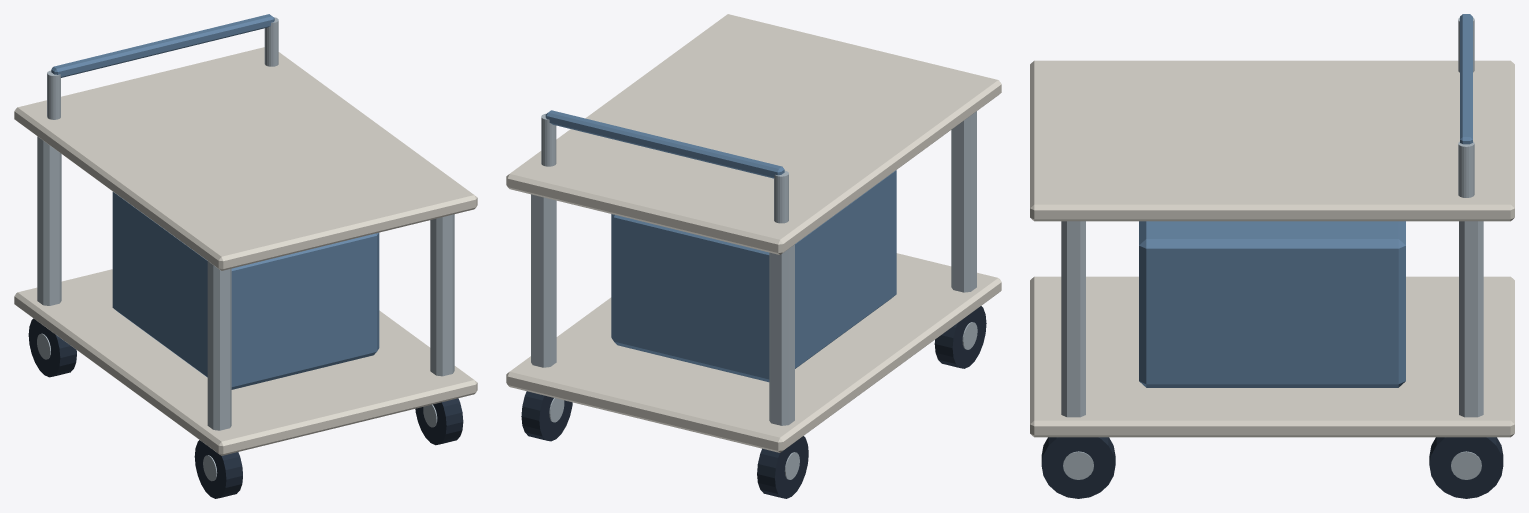
File: logistics_04.glb
The picture shows the model from 3 angles, left to right: view 1: azimuth 30°, elevation 25°; view 2: azimuth 150°, elevation 25°; view 3: azimuth 270°, elevation 25°; orthographic projection. The views are drawn at different scales.
Parts seen in each view (by area): view 1: Shelf (×2), CargoBox, Leg (×3), Wheel (×3), PushHandle, HandlePost (×2); view 2: Shelf (×2), CargoBox, Leg (×3), Wheel (×3), PushHandle, HandlePost (×2); view 3: Shelf (×2), CargoBox, Leg (×2), Wheel (×2), PushHandle, WheelHub (×2), HandlePost.
Part boxes in pixels (box(x1,y1,x2,y2)): Shelf (×2): box(14, 47, 477, 455); CargoBox: box(112, 192, 379, 389); Leg (×3): box(37, 136, 454, 430); Wheel (×3): box(28, 318, 463, 498); PushHandle: box(51, 14, 274, 77); HandlePost (×2): box(47, 17, 278, 119); Shelf (×2): box(506, 14, 1001, 452); CargoBox: box(611, 170, 896, 382); Leg (×3): box(531, 111, 976, 425); Wheel (×3): box(521, 306, 986, 498); PushHandle: box(545, 110, 784, 178); HandlePost (×2): box(541, 113, 788, 223); Shelf (×2): box(1030, 60, 1514, 437); CargoBox: box(1139, 221, 1405, 387); Leg (×2): box(1061, 221, 1483, 417); Wheel (×2): box(1041, 437, 1503, 498); PushHandle: box(1460, 14, 1472, 144); WheelHub (×2): box(1063, 451, 1481, 479); HandlePost: box(1458, 141, 1474, 197).
Size of the model in its own units: 0.85 by 0.956 by 1.18.
